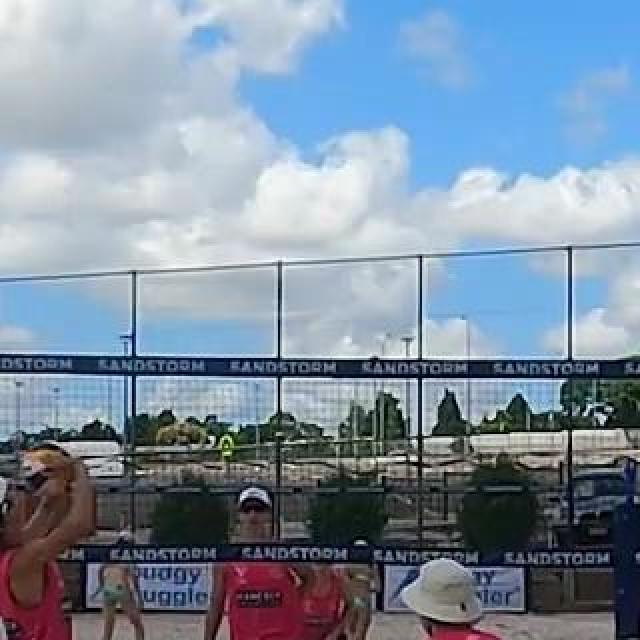volleyball: (22, 440, 74, 498)
